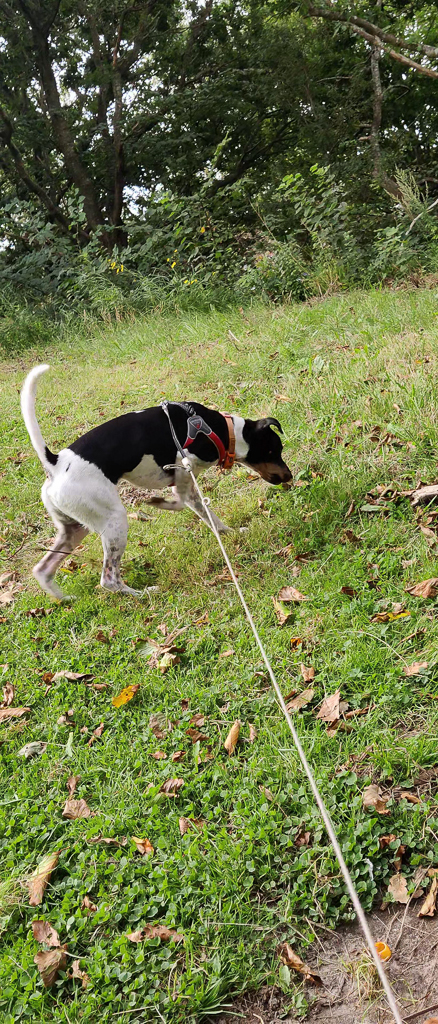Dog: (14, 346, 300, 614)
